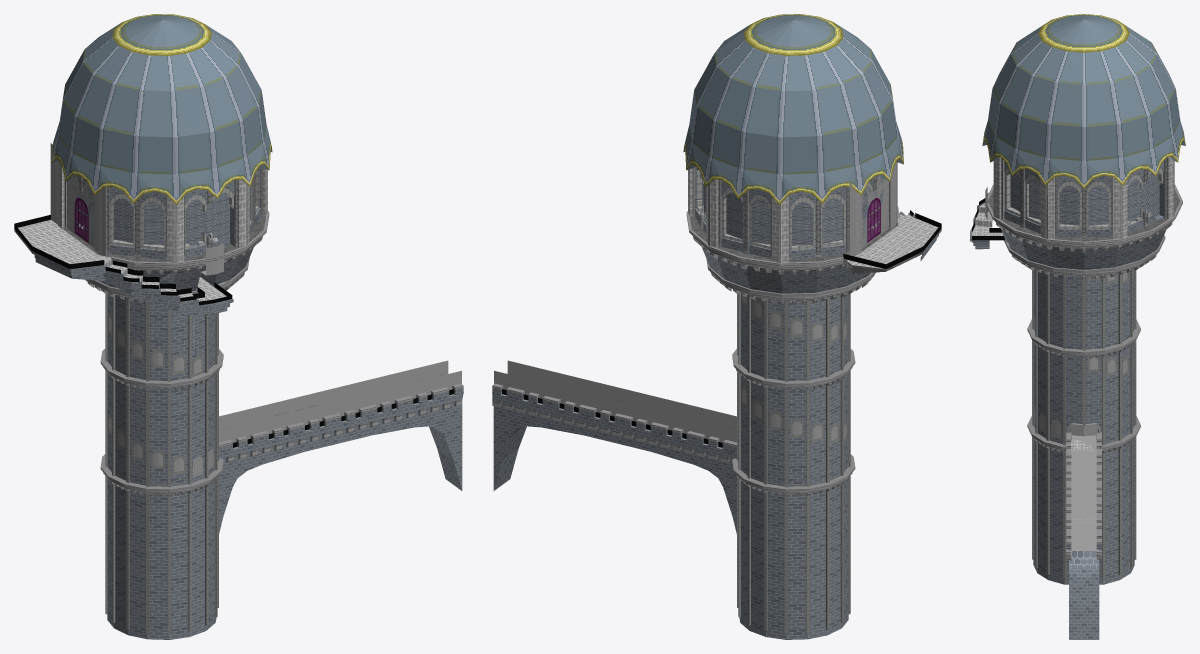
File: tower.gltf
3 views of the same model, side by side, from view 1: azimuth 30°, elevation 25°; view 2: azimuth 150°, elevation 25°; view 3: azimuth 270°, elevation 25° (orthographic). The views are drawn at different scales.
Parts seen in each view (by area): view 1: yane03.001, polySurface918_q00182.001, kabesoto_2.001, polySurface932_q00065.001, polySurface447_q00049, polySurface856_q00180, kuromaku.001, polySurface854_q00173_part0, polySurface922_q00205_part2.001, polySurface854_q00173_part1, polySurface884_q00197_part1.001, polySurface886_q00035.001 (+15 smaller); view 2: yane03.001, polySurface918_q00182.001, kabesoto_2.001, polySurface932_q00065.001, polySurface447_q00049, polySurface856_q00180, kuromaku.001, shita_part0.001, polySurface852_q00171_part0, polySurface852_q00171_part1, polySurface922_q00205_part2.001, polySurface870_q00196_part1.001 (+14 smaller); view 3: yane03.001, polySurface918_q00182.001, polySurface932_q00065.001, kabesoto_2.001, kuromaku.001, shita_part0.001, polySurface447_q00049, polySurface856_q00180, polySurface885_q00198_part1.001, pCylinder37_q00206.001, pCylinder37_q00209.001, pCylinder37_q00063 (+18 smaller).
Boxes of the visible parts, x1,y1,x2,y2 form: yane03.001: (51, 14, 271, 204); polySurface918_q00182.001: (107, 295, 216, 639); kabesoto_2.001: (107, 292, 214, 481); polySurface932_q00065.001: (105, 292, 218, 634); polySurface447_q00049: (219, 360, 461, 442); polySurface856_q00180: (219, 402, 462, 533); kuromaku.001: (113, 193, 230, 245); polySurface854_q00173_part0: (219, 388, 463, 458); polySurface922_q00205_part2.001: (18, 220, 226, 301); polySurface854_q00173_part1: (219, 383, 463, 461); polySurface884_q00197_part1.001: (167, 179, 249, 262); polySurface886_q00035.001: (50, 143, 105, 256); yane03.001: (684, 14, 903, 204); polySurface918_q00182.001: (739, 292, 848, 639); kabesoto_2.001: (741, 292, 848, 481); polySurface932_q00065.001: (737, 291, 850, 634); polySurface447_q00049: (494, 360, 736, 442); polySurface856_q00180: (493, 403, 736, 533); kuromaku.001: (702, 179, 842, 257); shita_part0.001: (702, 247, 870, 293); polySurface852_q00171_part0: (492, 388, 736, 459); polySurface852_q00171_part1: (492, 383, 736, 463); polySurface922_q00205_part2.001: (843, 214, 938, 270); polySurface870_q00196_part1.001: (706, 179, 788, 262); yane03.001: (982, 14, 1185, 188); polySurface918_q00182.001: (1033, 271, 1134, 584); polySurface932_q00065.001: (1032, 268, 1136, 579); kabesoto_2.001: (1033, 268, 1134, 439); kuromaku.001: (1010, 173, 1159, 237); shita_part0.001: (1001, 229, 1165, 269); polySurface447_q00049: (1071, 440, 1096, 550); polySurface856_q00180: (1069, 551, 1099, 639); polySurface885_q00198_part1.001: (1040, 177, 1127, 239); pCylinder37_q00206.001: (985, 184, 1182, 248); pCylinder37_q00209.001: (1004, 235, 1165, 276); pCylinder37_q00063: (1027, 319, 1140, 356).
Size of the model in its own units: 176 by 237 by 85.15.
